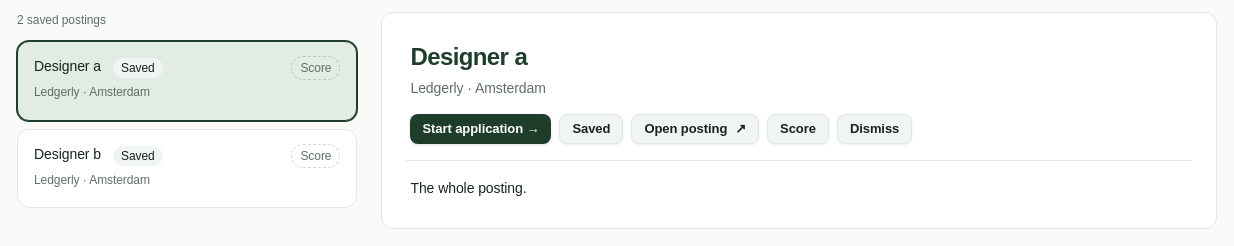
Test case: Score in Find jobs (#208) › scores a posting from its pill in the list, keeping the open one open
This screenshot has width=1234, height=246.
Later steps or results of the test are not shown.
Click the button with aria-label "Score “Designer b”": (316, 156) [291,144,340,168]
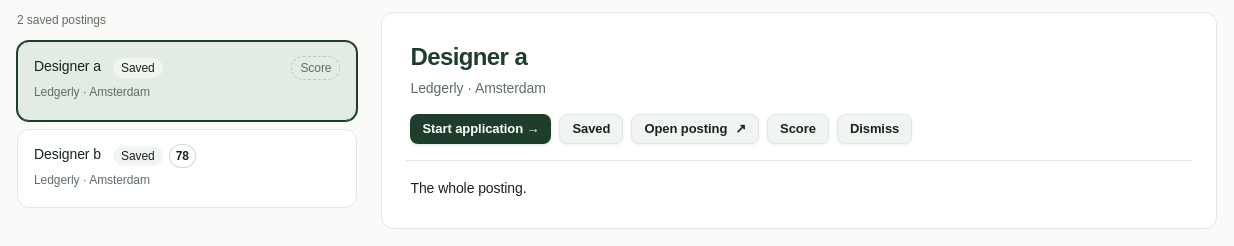
expect the heading reads "Designer a": met, box [410,43,527,70]
expect the picture named "Score 78 of 100" is shown: met, box [169,144,196,168]
